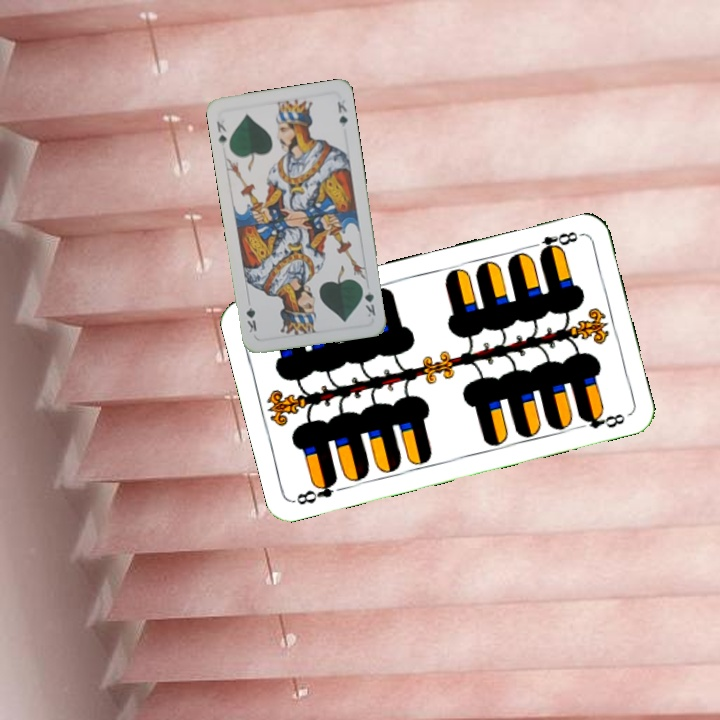E8: (525, 227, 584, 258), (291, 474, 340, 508)
GK: (358, 281, 378, 320), (212, 117, 229, 149)
